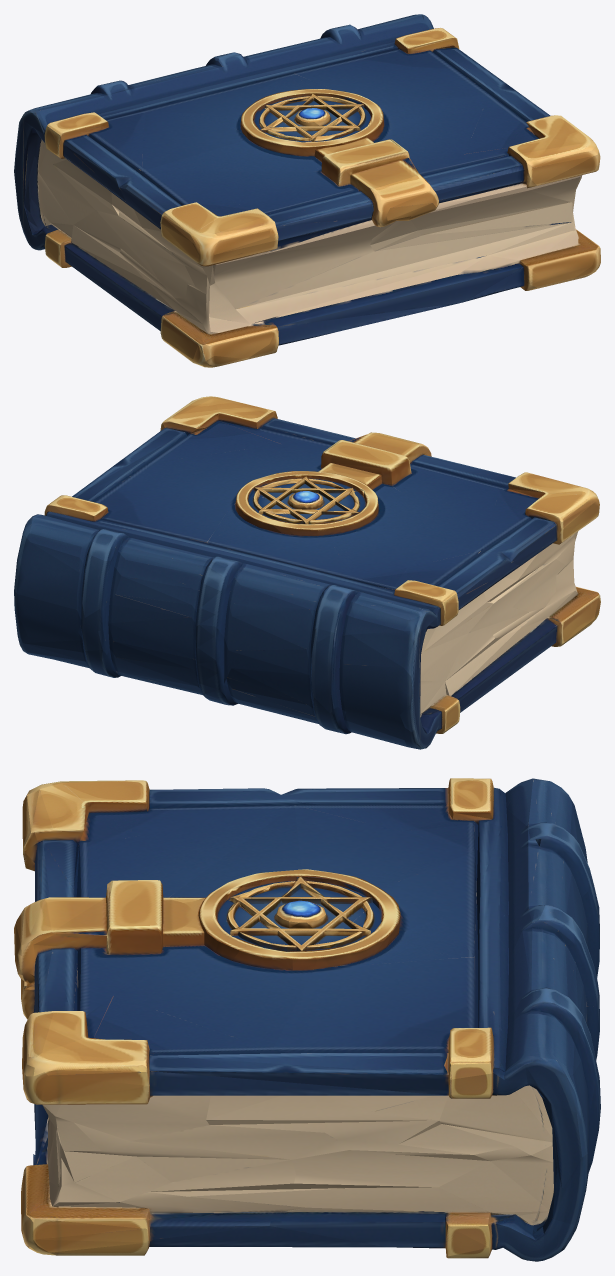
Rendered from wizard_book.glb.
3 renders of one model, top to bottom at view 1: azimuth 30°, elevation 25°; view 2: azimuth 150°, elevation 25°; view 3: azimuth 270°, elevation 25°, orthographic. The views are drawn at different scales.
Parts seen in each view (by area): view 1: Mesh_0; view 2: Mesh_0; view 3: Mesh_0.
Part boxes in pixels (bbox=[...]): Mesh_0: bbox=[14, 14, 600, 367]; Mesh_0: bbox=[14, 396, 600, 749]; Mesh_0: bbox=[14, 778, 600, 1261].
Size of the model in its own units: 1.9 by 0.6767 by 1.63.
Materials: 1 (1 with a texture image).
